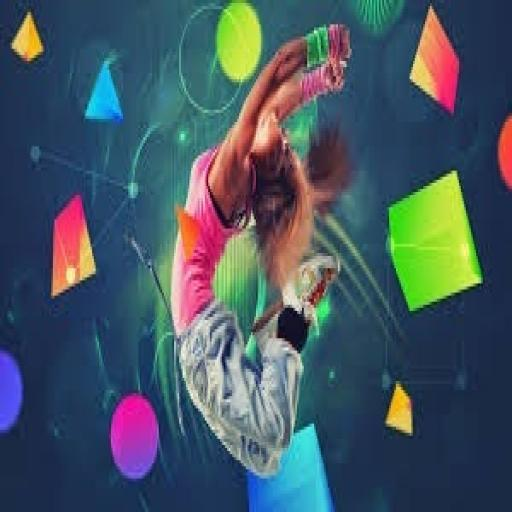dancing: (167, 18, 357, 509)
